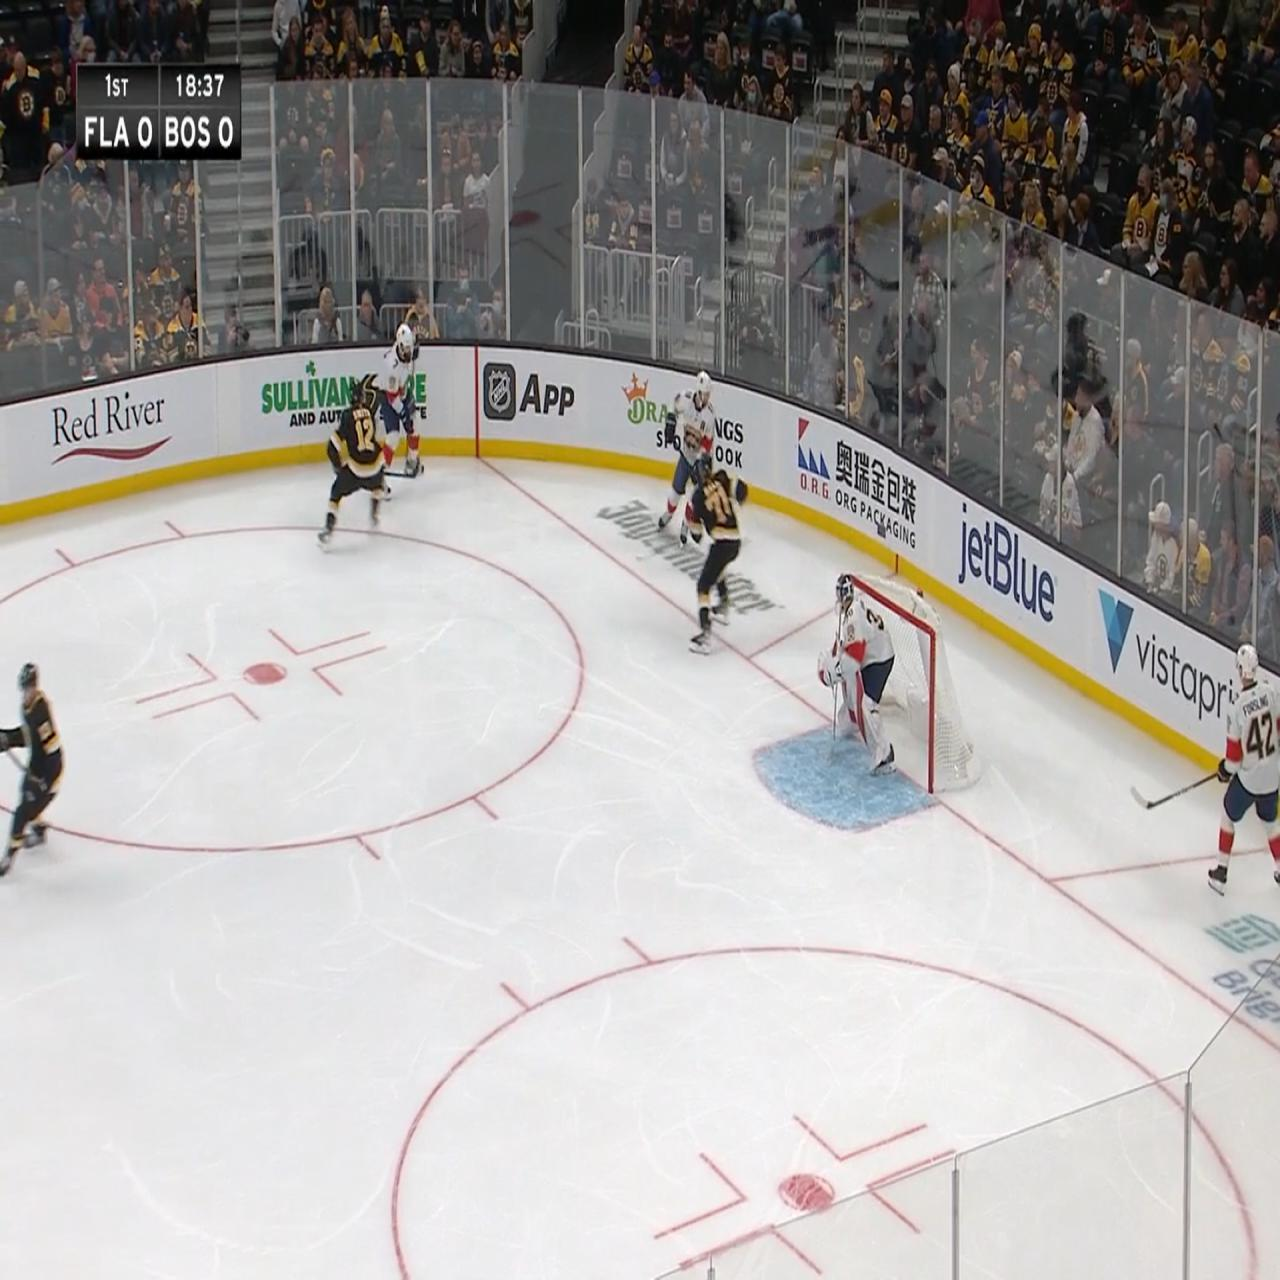Ad: (598, 492, 784, 624), (1094, 578, 1235, 716), (795, 410, 922, 550), (258, 348, 433, 438), (620, 362, 747, 475), (960, 493, 1057, 634), (1199, 903, 1279, 1044), (46, 384, 170, 467), (481, 350, 580, 428)
